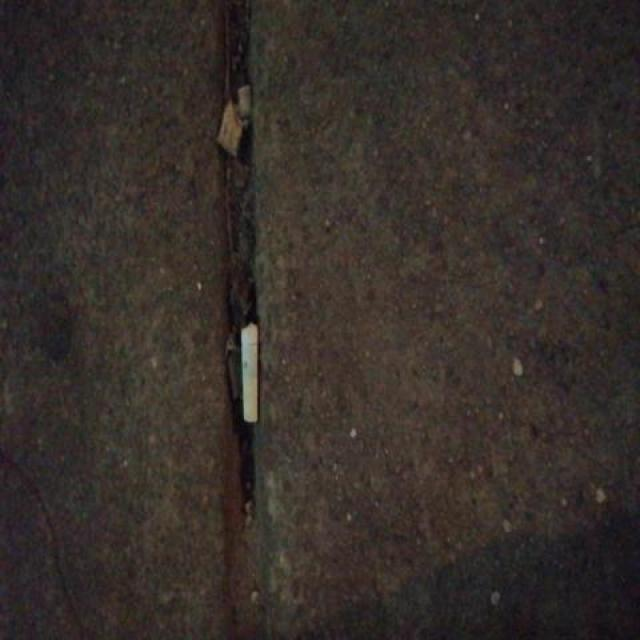non-organic waste: (237, 314, 263, 426)
